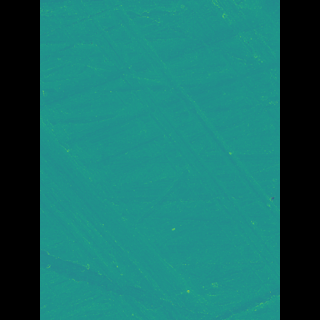Loch: (93, 0, 250, 283), (70, 111, 198, 320)
